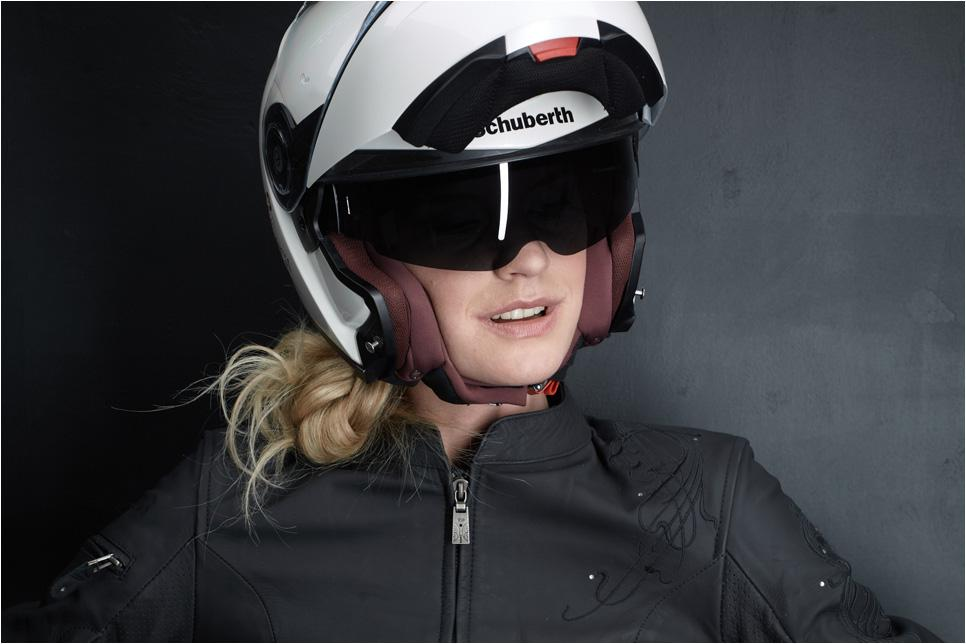helmet: (189, 0, 684, 380)
